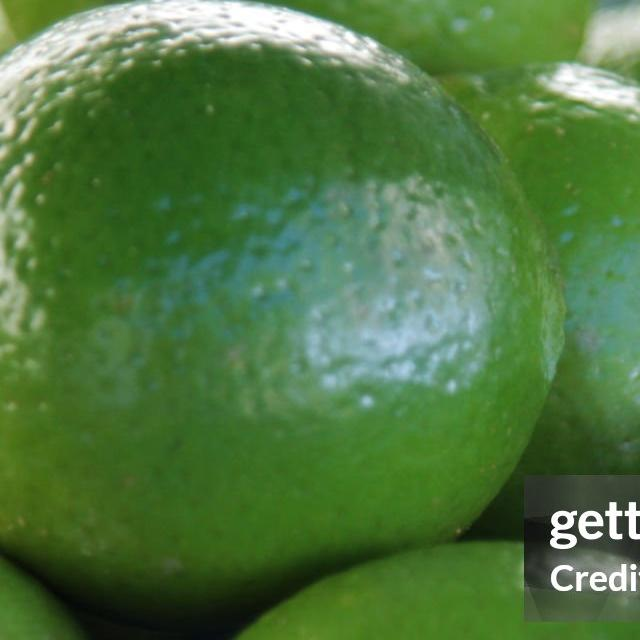lime: (0, 0, 559, 632)
